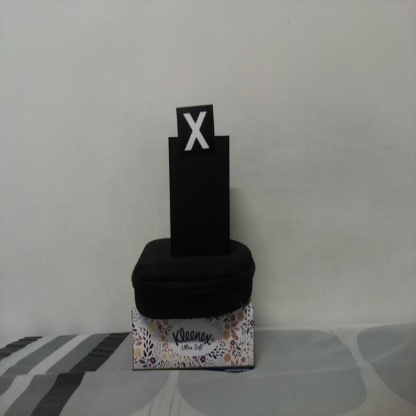id_13: (177, 107, 215, 162)
